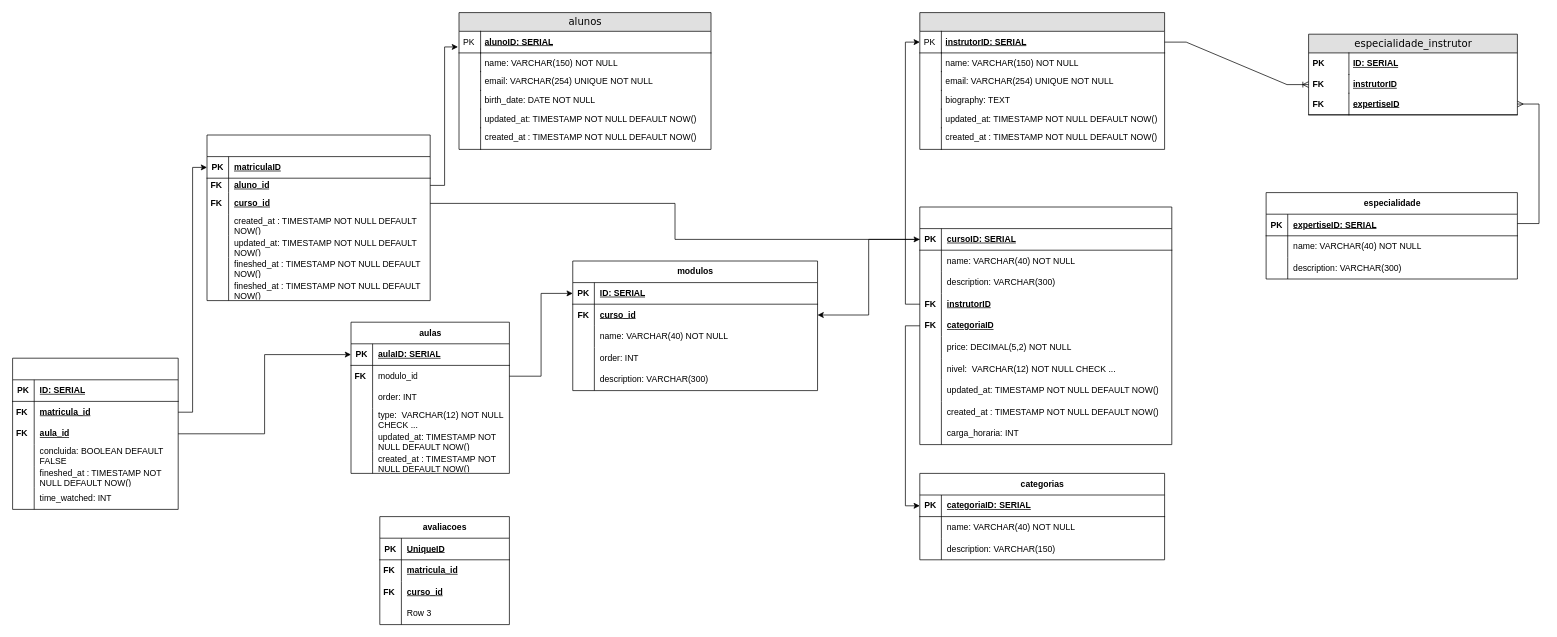
Image size: 1557x637. Some labels were removed from this diagram. Here are the shapes that lost their labels. From the top down, the box of each, then its label:
(919, 12, 1165, 149): instrutores
(206, 134, 430, 301): matriculas
(919, 206, 1172, 445): cursos
(12, 357, 178, 509): progresso_aulas
